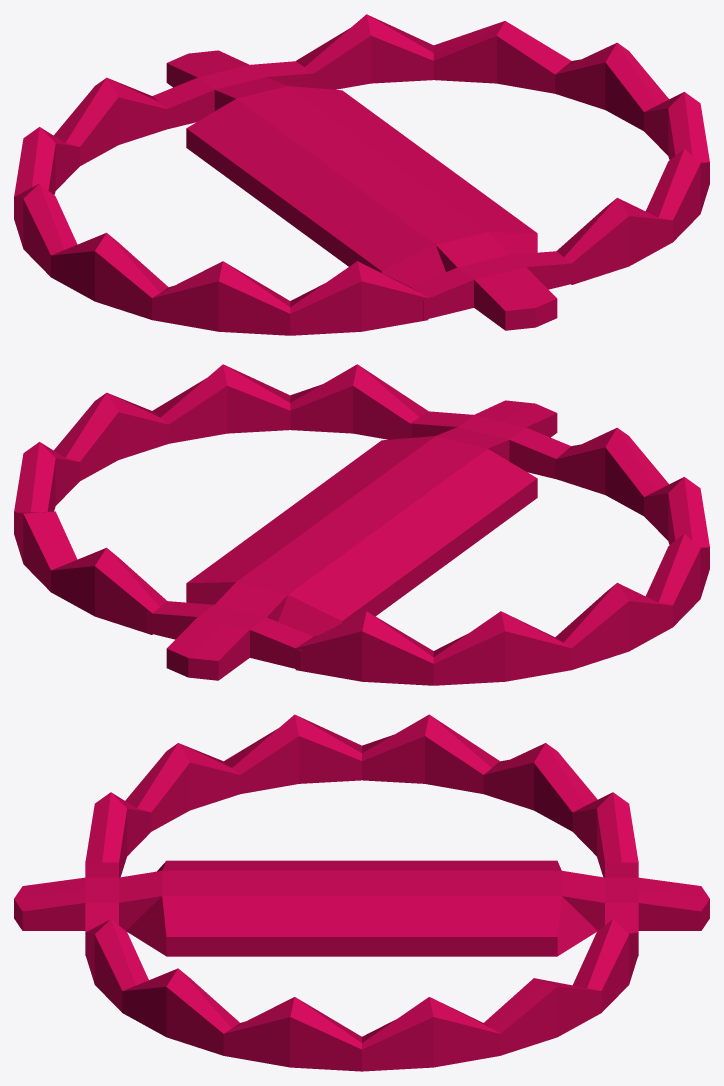
File: FloorTrap.fbx
3 views of the same model, one above another, from view 1: azimuth 30°, elevation 25°; view 2: azimuth 150°, elevation 25°; view 3: azimuth 270°, elevation 25° (orthographic).
Parts seen in each view (by area): view 1: FalleM, FalleR, FalleL; view 2: FalleM, FalleR, FalleL; view 3: FalleM, FalleL, FalleR.
Boxes of the visible parts, left/top/right/bottom form: FalleM: left=152, top=50, right=576, bottom=330; FalleR: left=14, top=77, right=428, bottom=335; FalleL: left=296, top=14, right=709, bottom=284; FalleM: left=146, top=400, right=571, bottom=680; FalleR: left=295, top=427, right=709, bottom=685; FalleL: left=14, top=364, right=427, bottom=634; FalleM: left=14, top=860, right=709, bottom=956; FalleL: left=85, top=919, right=638, bottom=1071; FalleR: left=85, top=714, right=638, bottom=877.
Size of the model in its own units: 260 by 25.53 by 252.
